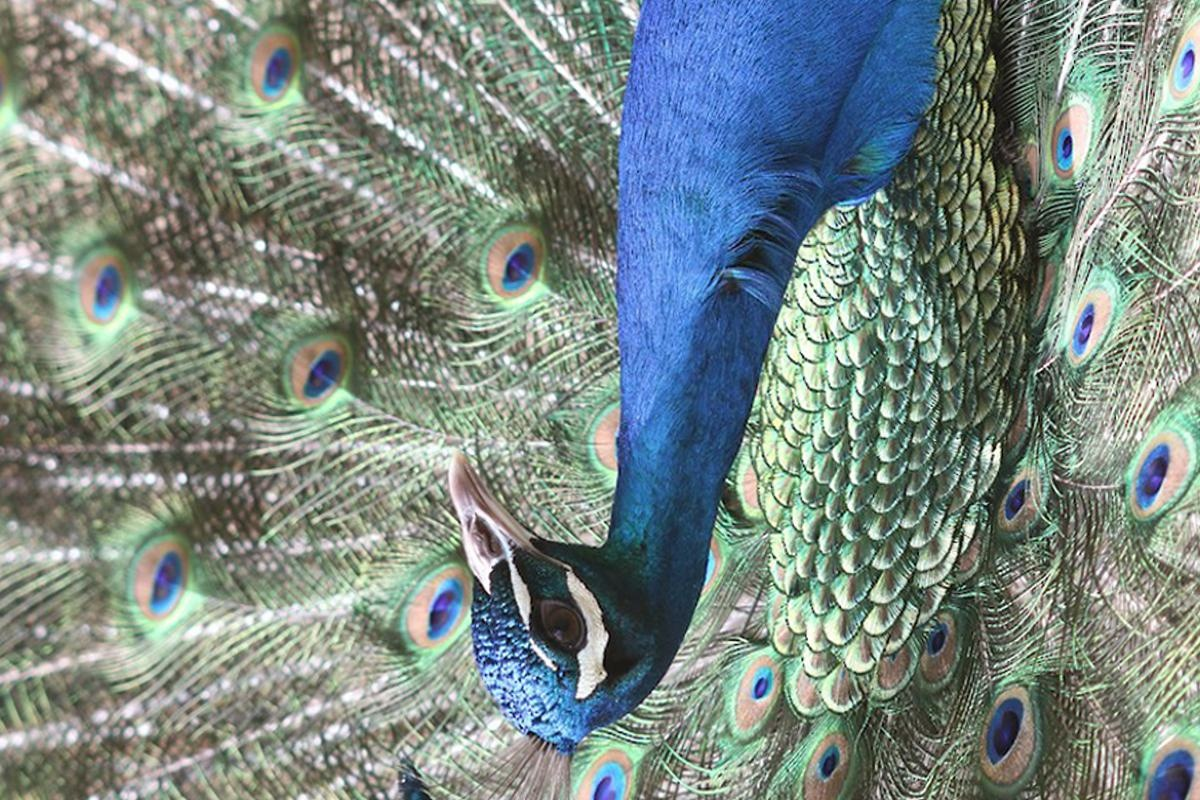peacock: (1, 1, 1165, 796)
